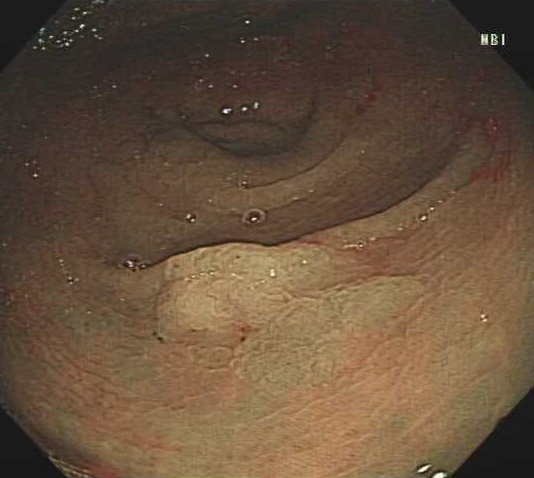others: (129, 241, 430, 394)
